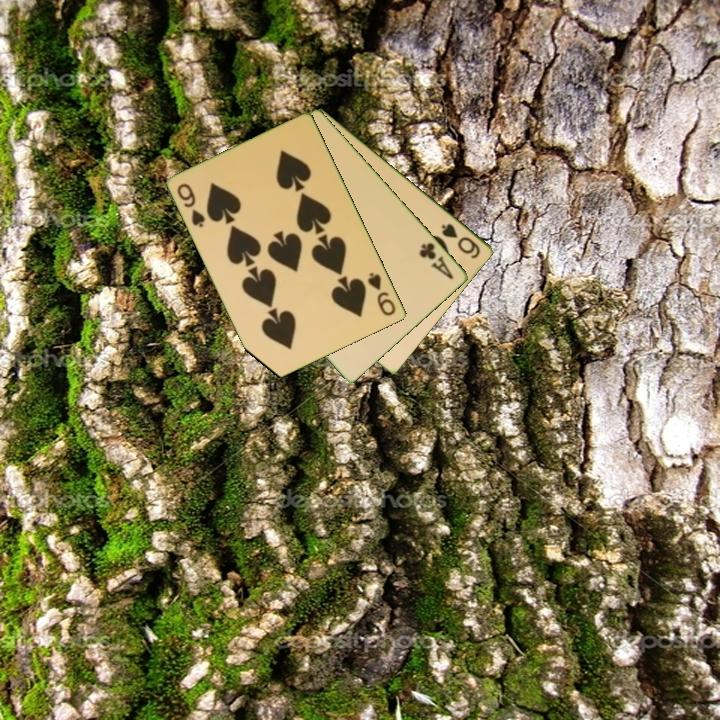6s: (438, 220, 484, 261)
9s: (364, 269, 399, 319), (174, 180, 208, 231)
Ac: (416, 239, 457, 282)
